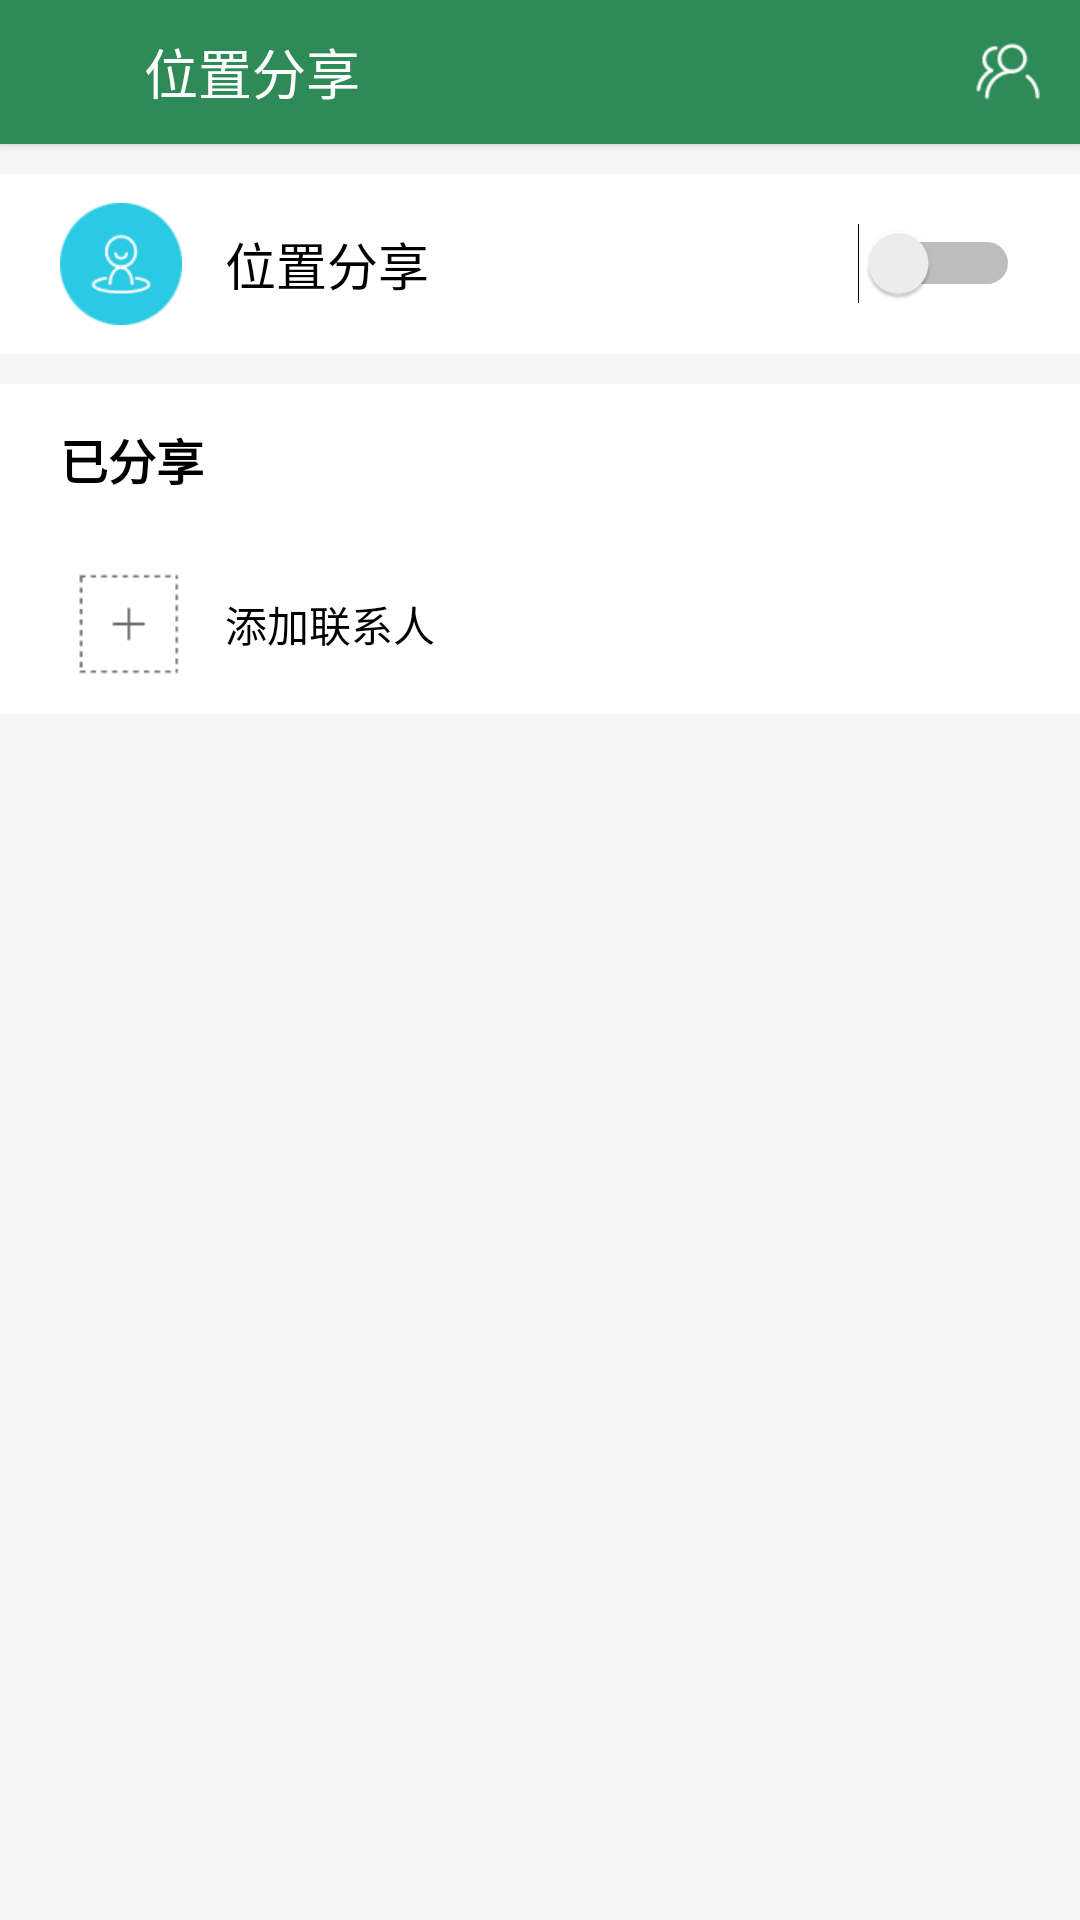

Locate icon controls on the screen. Image size 1080×1920, boxes as (x1, y1, x2, y2).
position add: (79, 574, 179, 674)
position friend: (976, 43, 1040, 99)
